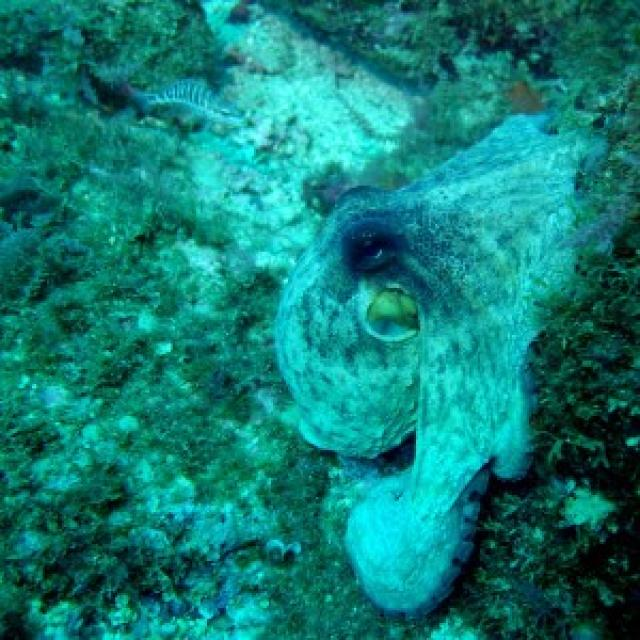Octo: (273, 137, 606, 573)
